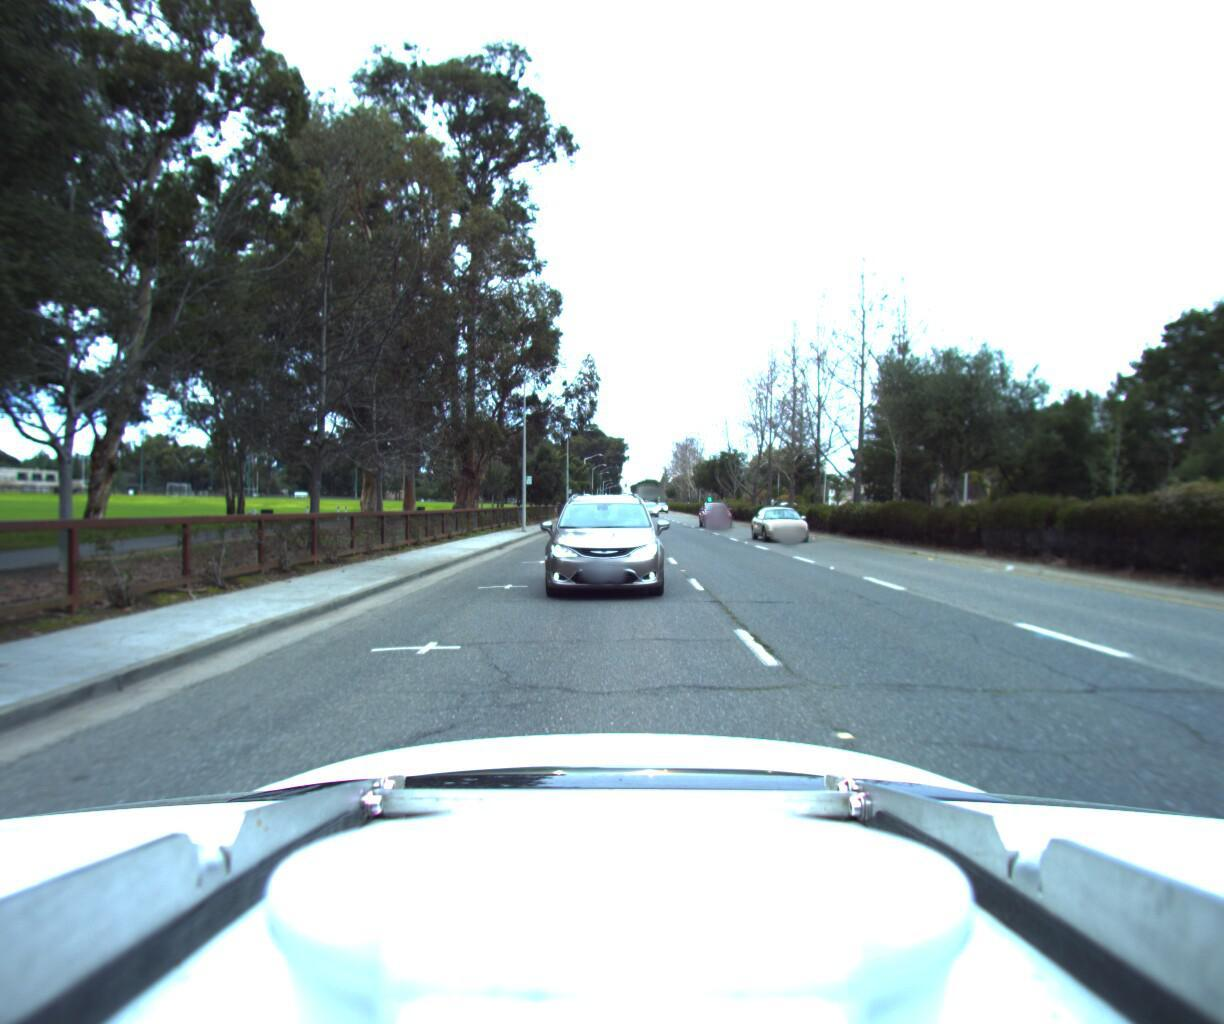car: (536, 482, 663, 597), (753, 500, 817, 540), (696, 493, 733, 520)
